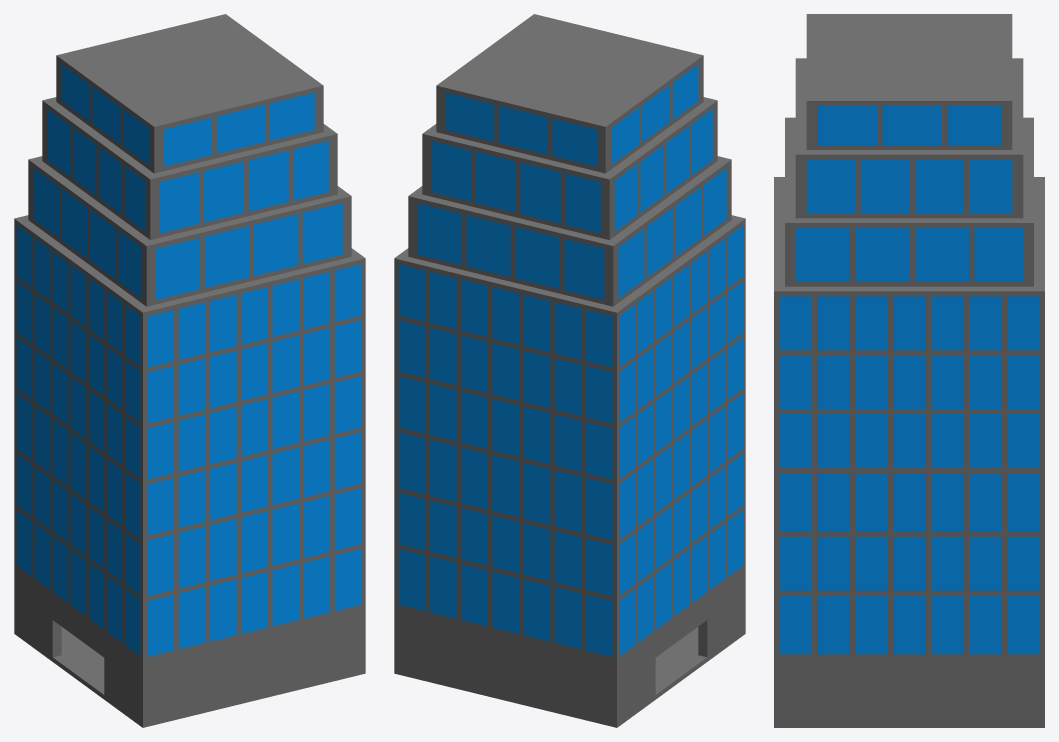
Rendered from tall-tower-2.obj.
3 views of the same model, side by side, from view 1: azimuth 30°, elevation 25°; view 2: azimuth 150°, elevation 25°; view 3: azimuth 270°, elevation 25° (orthographic). The views are drawn at different scales.
Bounding box in the file's own units: 50 × 125 × 50.
1 material, 1 textured.
